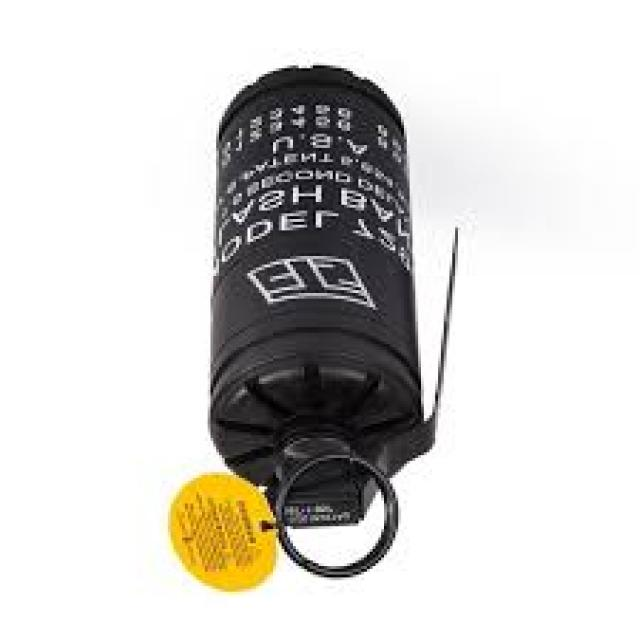grenade: (204, 68, 463, 583)
